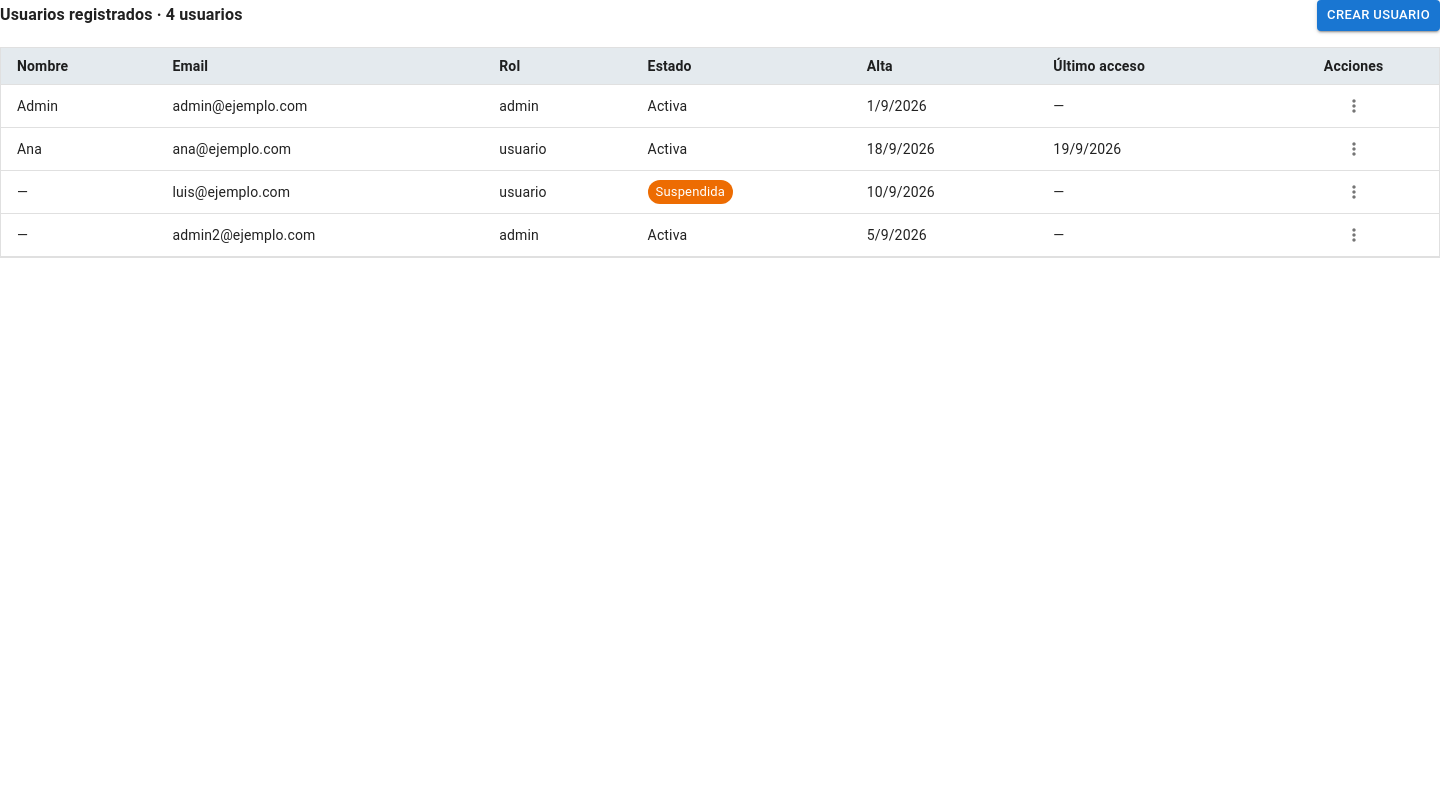
Test case: AdminUsers (ADM-03) › una contraseña incorrecta se explica y deja reintentar
Expected: the text "ana@ejemplo.com" is shown, [156,127,483,170]
Click the button named "acciones".
click(1354, 149)  # box [1339,134,1369,164]
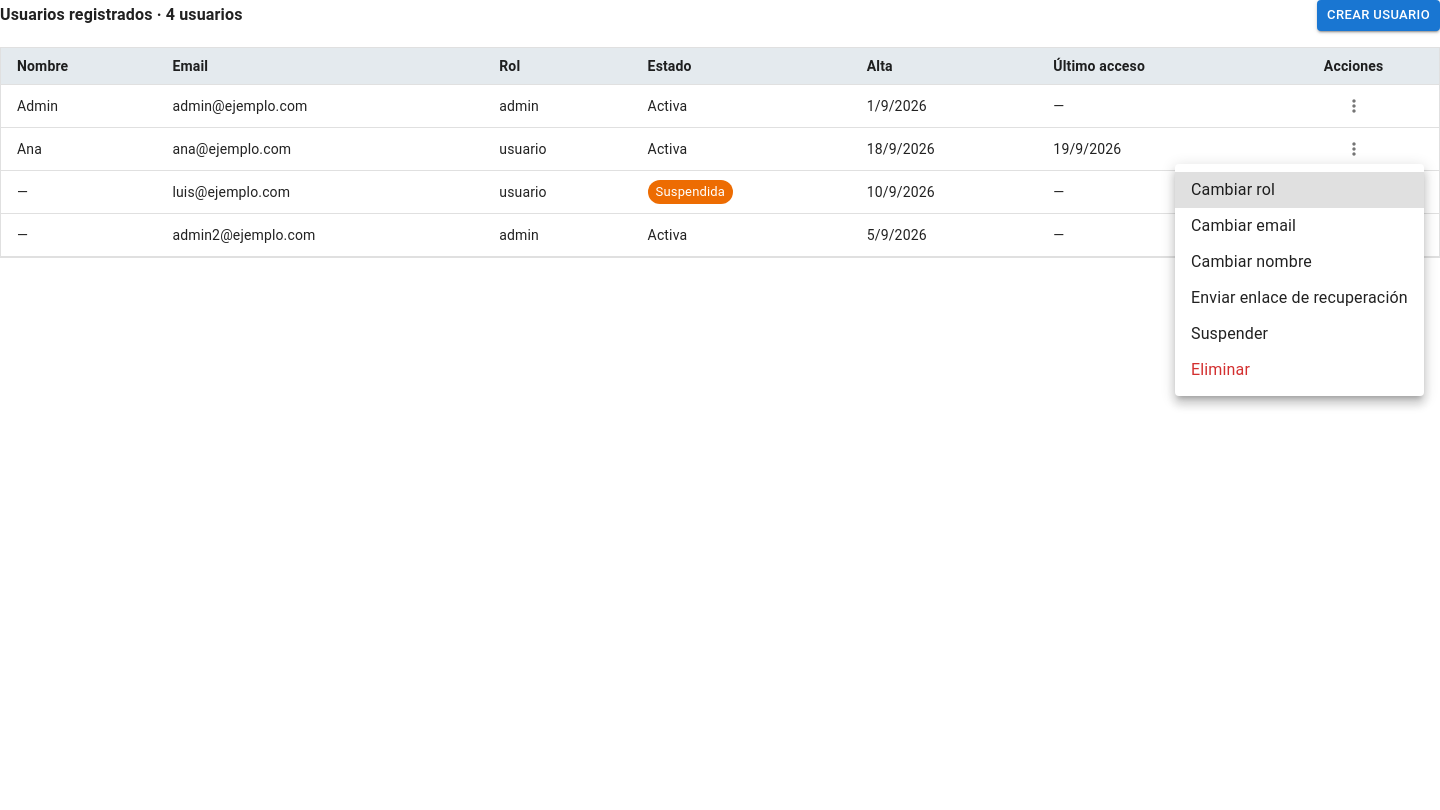
Click the menu item "Eliminar".
click(1220, 370)  # box [1191,360,1250,379]
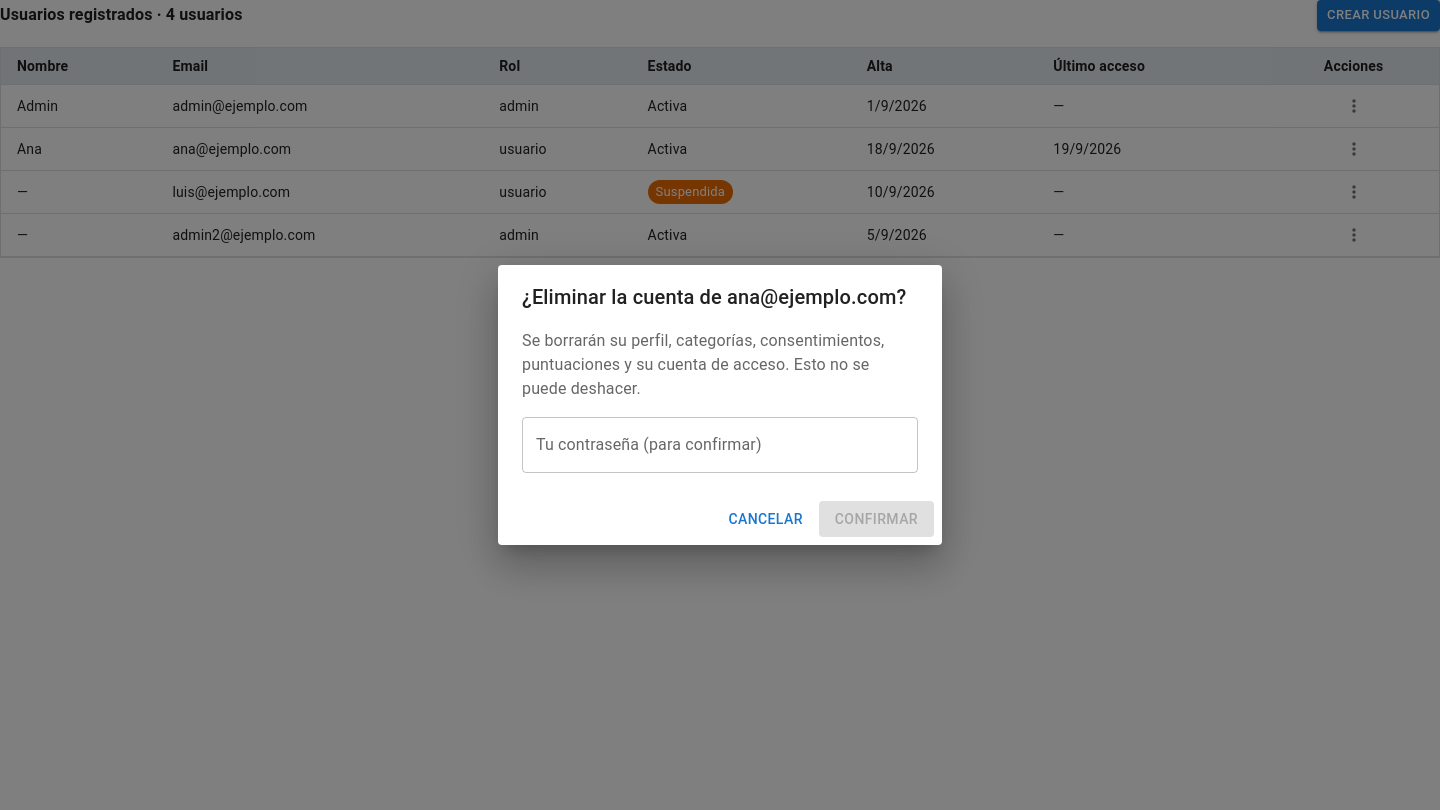
Type "mal" into the password field labelled "Tu contraseña (para confirmar)".
click(720, 445); type("mal")  # box [522,417,918,473]
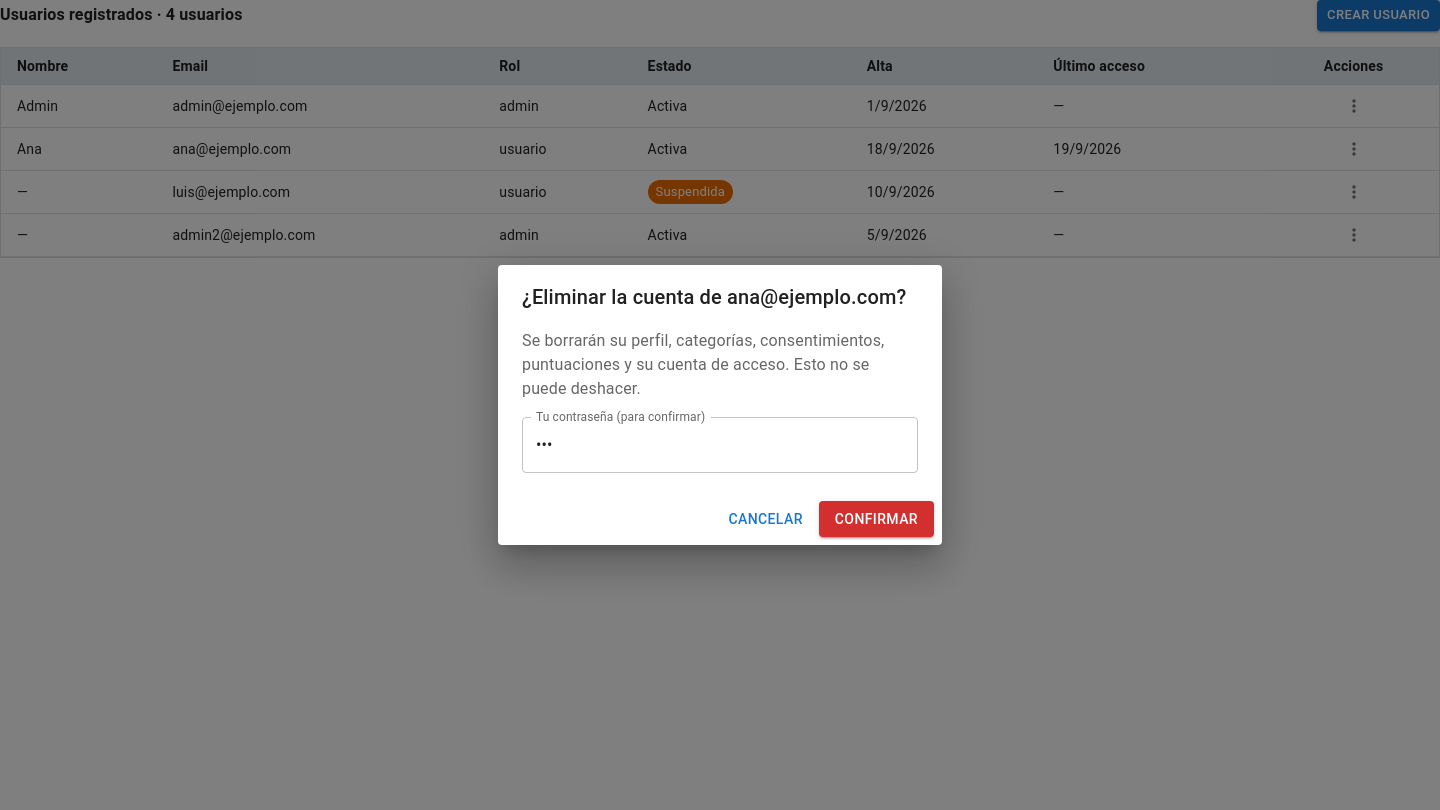
Click the button "Confirmar".
click(876, 519)  # box [819,501,934,537]
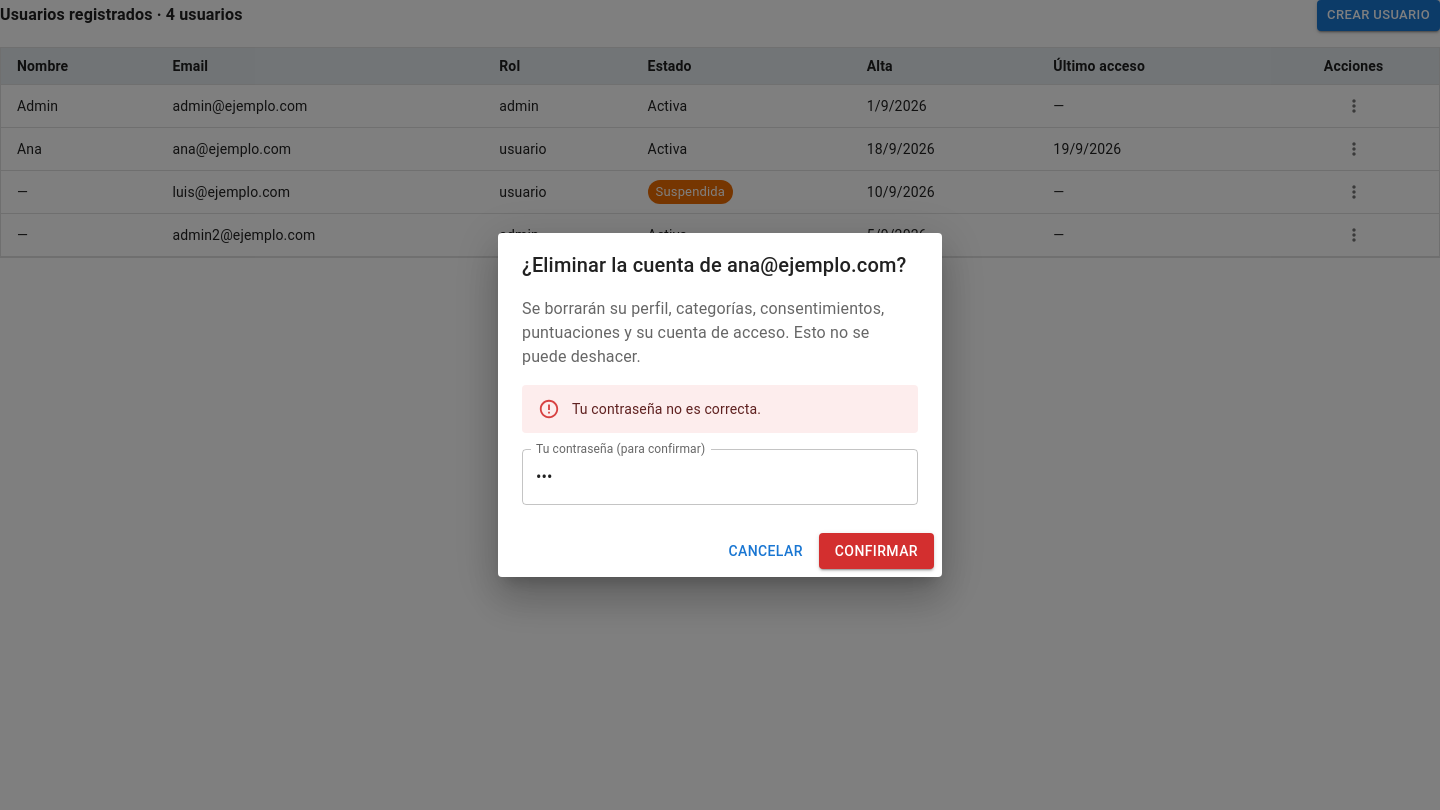
Result: the button "Confirmar" is enabled at [819,533,934,569]
Result: the text "Tu contraseña no es correcta." is shown at [572,401,761,417]
